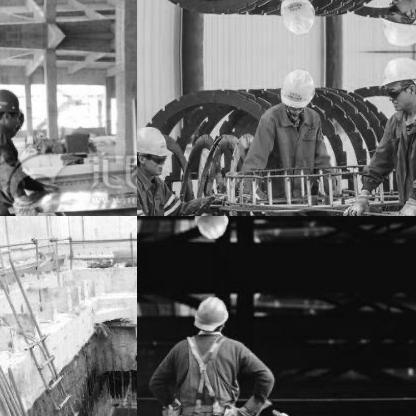Helmet: (375, 53, 415, 111), (137, 121, 172, 176), (375, 0, 415, 47), (278, 65, 316, 113), (193, 292, 232, 336), (277, 0, 317, 36), (193, 216, 234, 241), (0, 85, 21, 127), (1, 108, 23, 138)
